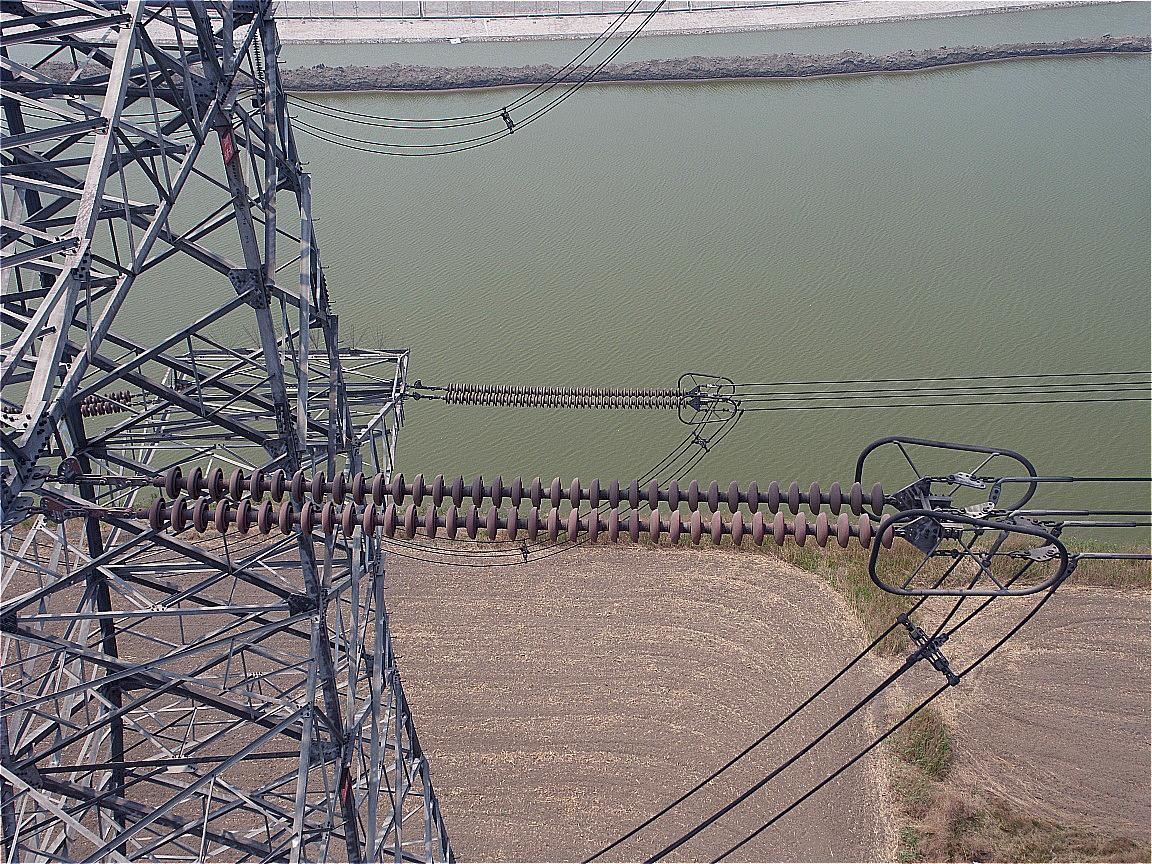insultor1: (144, 453, 905, 570)
insultor2: (434, 364, 682, 421)
